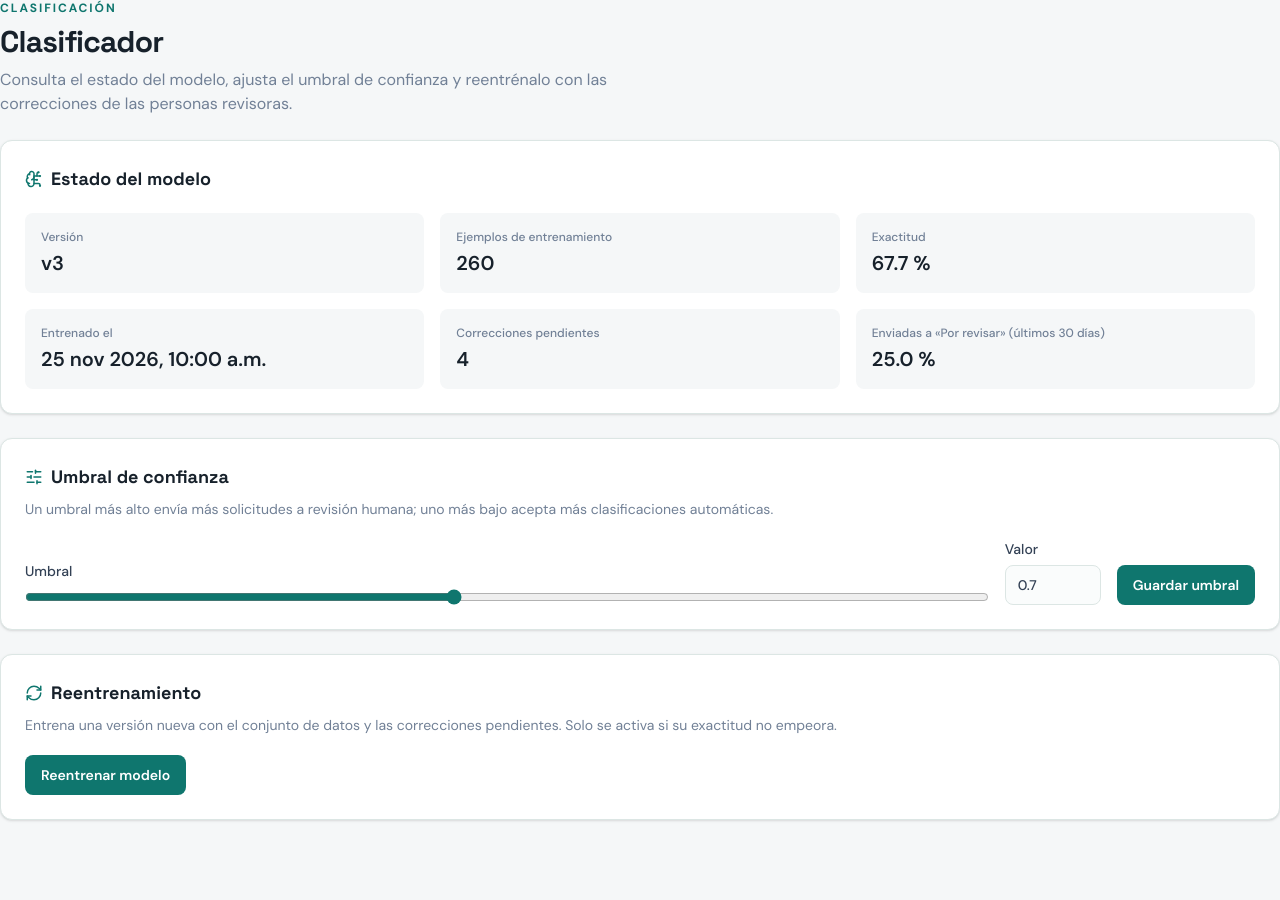
Test case: ClasificadorPage (S5-12, HU-02.2, HU-12.1, HU-12.2) › reentrenar pide confirmación y muestra la versión activada
Click the button "Reentrenar modelo": click(106, 775) [25, 755, 186, 795]
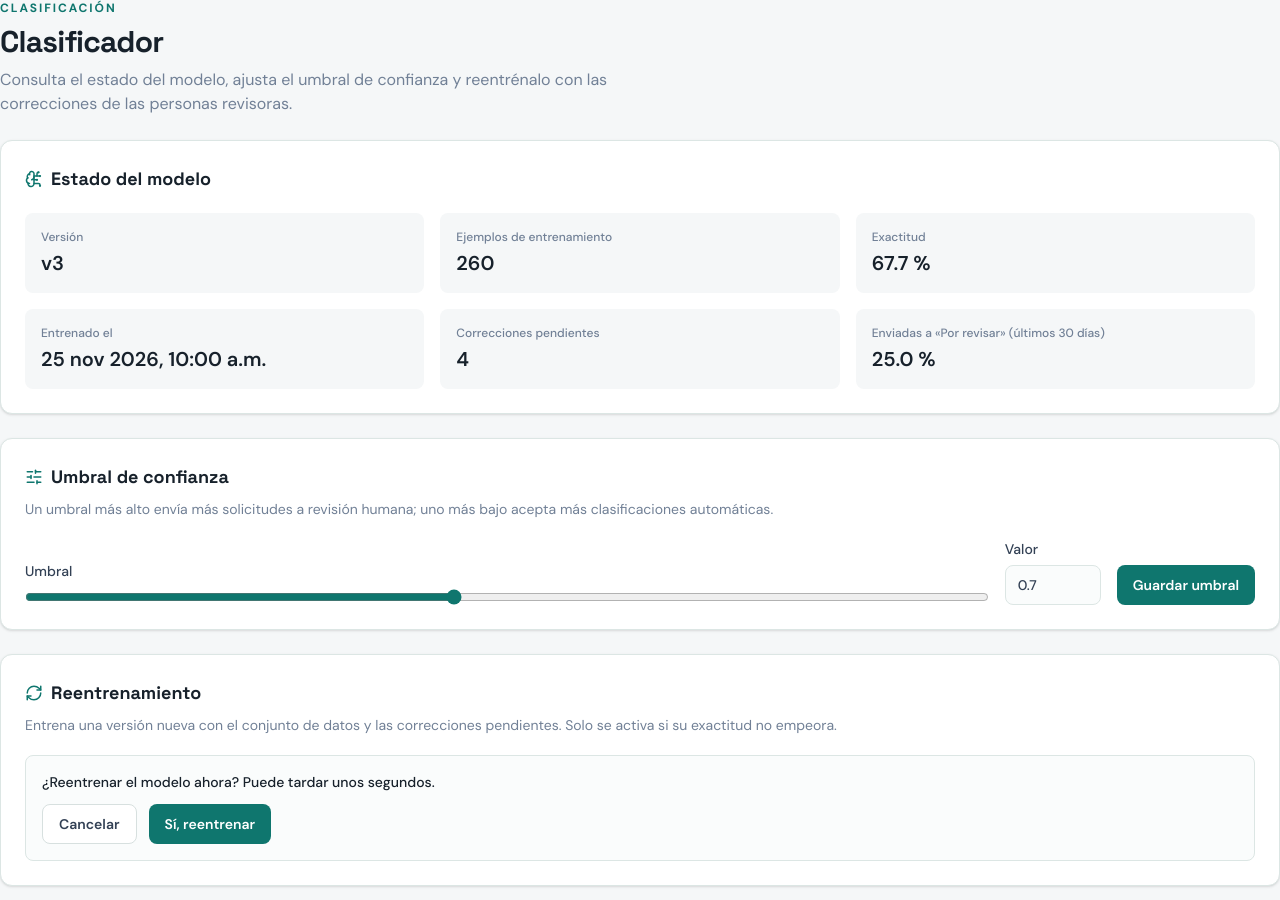
Now the dialog is shown, box [25, 755, 1255, 861]
Click the button "Sí, reentrenar": click(210, 824) [148, 804, 271, 844]
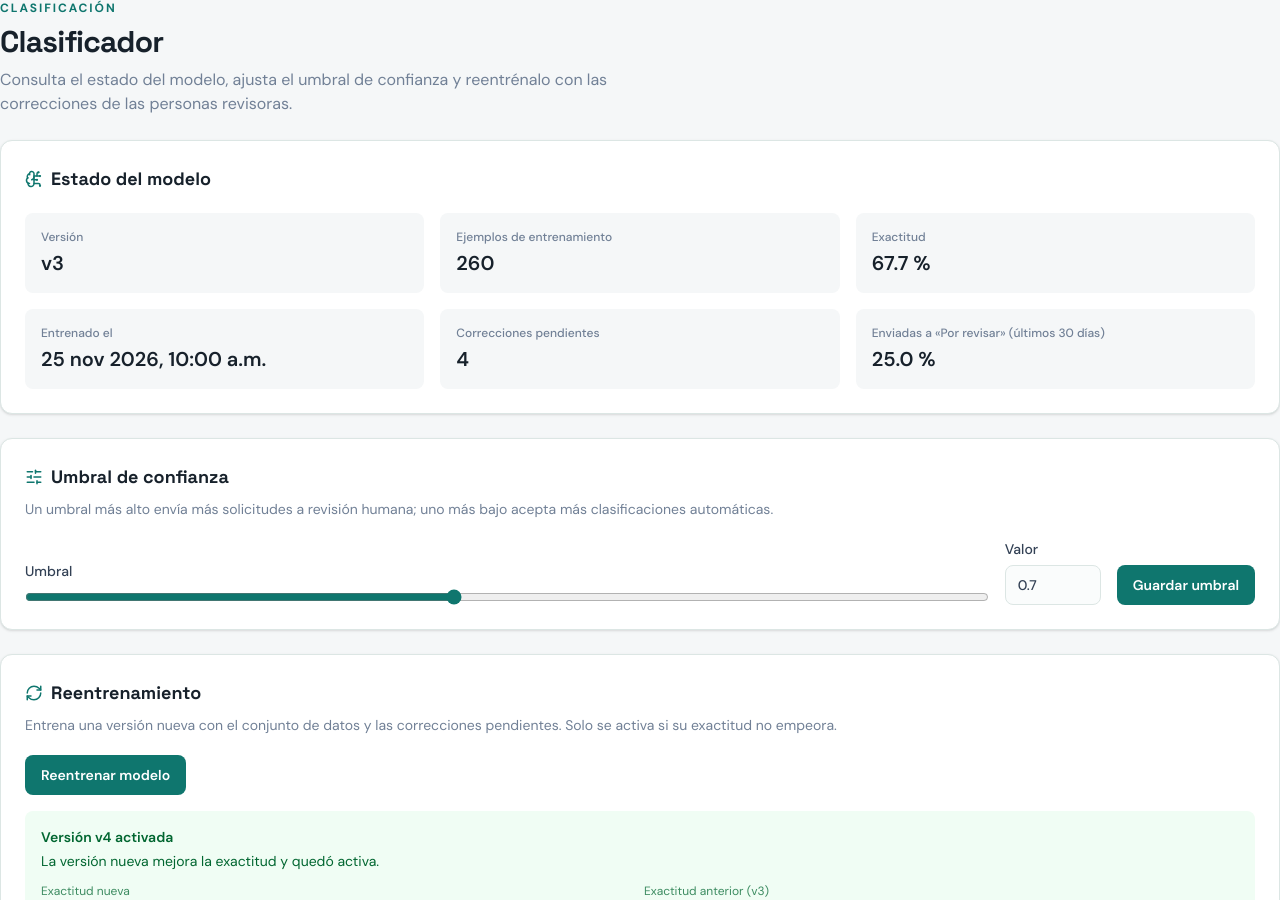
Now the text "Versión v4 activada" is shown, box [41, 828, 173, 846]
Now the text "La versión nueva mejora la exactitud y quedó activa." is shown, box [41, 852, 379, 870]
Now the text "Exactitud anterior (v3)" is shown, box [644, 883, 769, 899]
